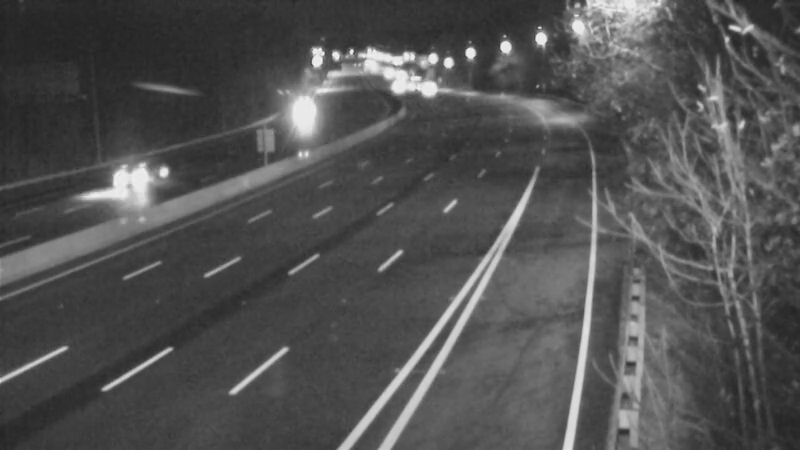vehicle: (94, 135, 174, 215), (371, 61, 421, 111), (401, 66, 451, 116), (277, 88, 327, 138)
